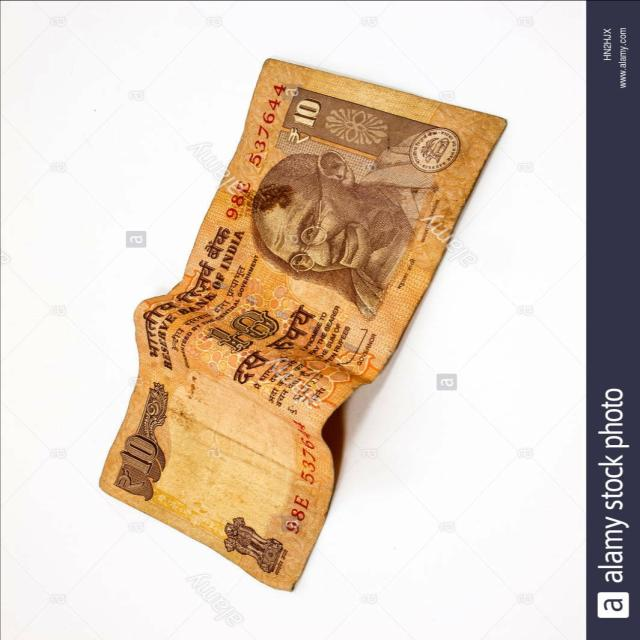10IndianRupees: (86, 59, 501, 564)
